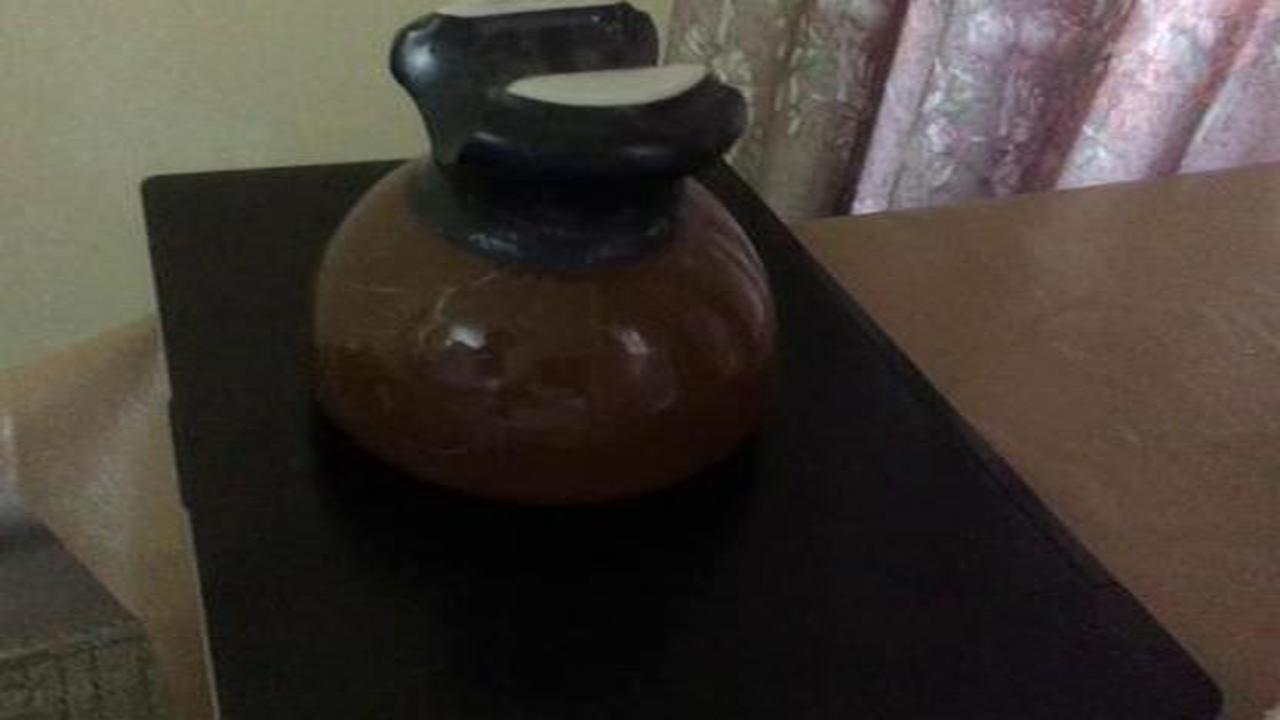insulator_pin: (287, 7, 813, 539)
